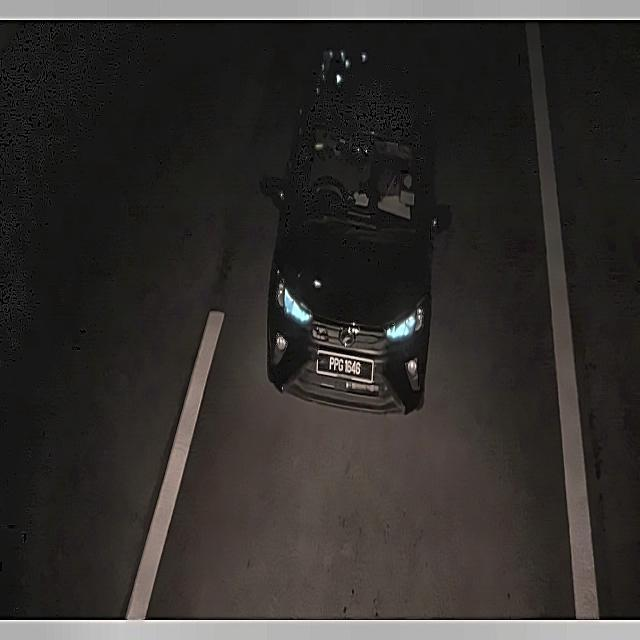car: (306, 331, 382, 397)
